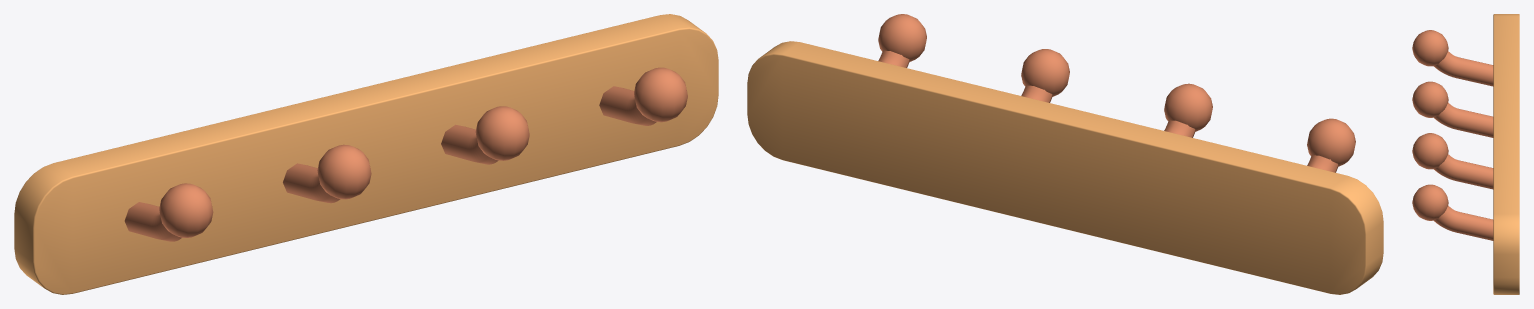
File: cabideiro_parede.glb
3 views of the same model, side by side, from view 1: azimuth 30°, elevation 25°; view 2: azimuth 150°, elevation 25°; view 3: azimuth 270°, elevation 25° (orthographic). The views are drawn at different scales.
Visible parts, largest first — view 1: cabideiro_parede; view 2: cabideiro_parede; view 3: cabideiro_parede.
Part boxes in pixels (box(x1,y1,x2,y2)): cabideiro_parede: box(14, 14, 718, 294); cabideiro_parede: box(747, 14, 1383, 294); cabideiro_parede: box(1412, 14, 1519, 294).
Size of the model in its own units: 0.52 by 0.092 by 0.106.
1 material, 1 textured.
